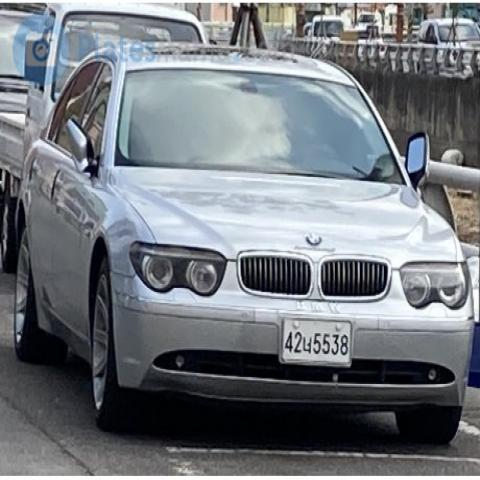LP: (273, 309, 359, 369)
